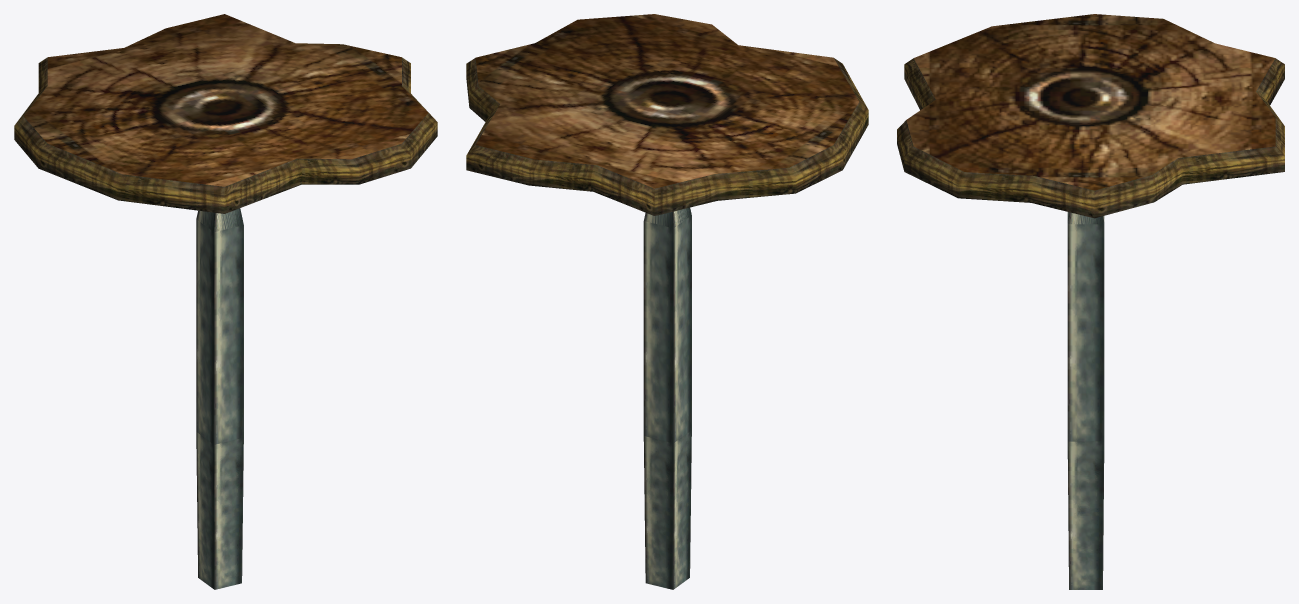
The model's file is CB_SPIKE.fbx.
The picture shows the model from 3 angles, left to right: view 1: azimuth 30°, elevation 25°; view 2: azimuth 150°, elevation 25°; view 3: azimuth 270°, elevation 25°; orthographic projection. The views are drawn at different scales.
Visible parts, largest first — view 1: CB_SPIKE; view 2: CB_SPIKE; view 3: CB_SPIKE.
Boxes of the visible parts, x1,y1,x2,y2 form: CB_SPIKE: (14,14,437,589); CB_SPIKE: (466,14,868,589); CB_SPIKE: (897,14,1284,589).
Size of the model in its own units: 11749 by 14315 by 10370.
Materials: 3 (3 with a texture image).
